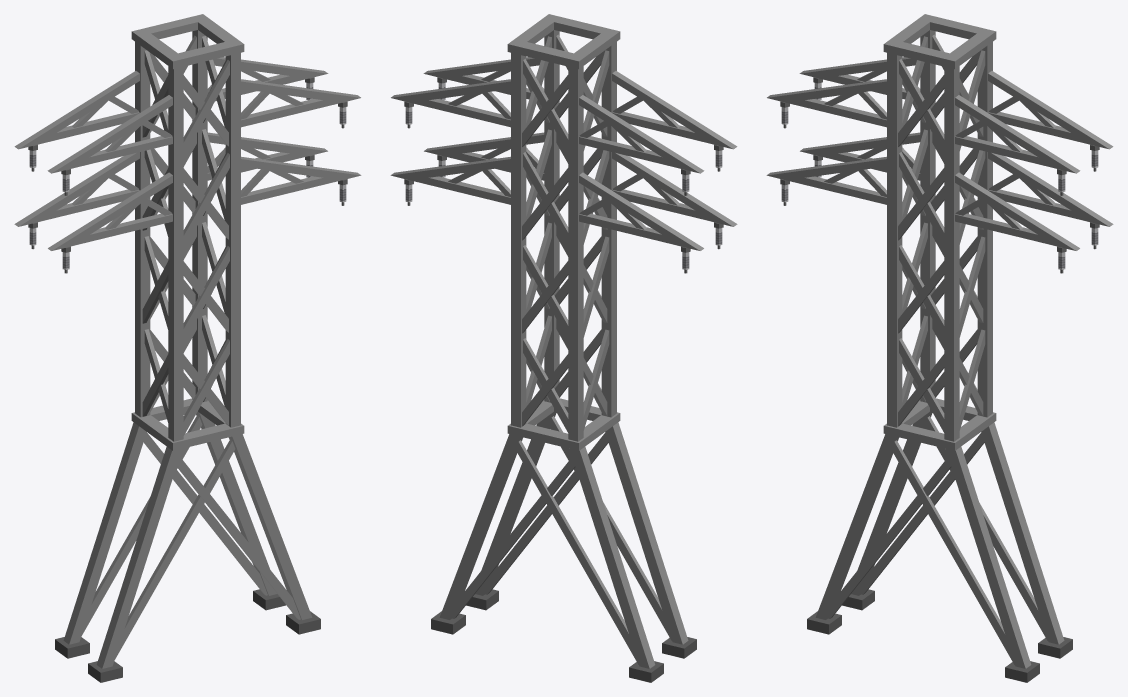
Rendered from west_zs15.FBX.
3 views of the same model, side by side, from view 1: azimuth 30°, elevation 25°; view 2: azimuth 150°, elevation 25°; view 3: azimuth 330°, elevation 25° (orthographic).
Visible parts, largest first — view 1: west_zs15; view 2: west_zs15; view 3: west_zs15.
Part boxes in pixels (x1,y1,x2,y2): west_zs15: [14, 14, 361, 682]; west_zs15: [390, 14, 737, 682]; west_zs15: [766, 14, 1113, 682].
Size of the model in its own units: 2355 by 4372 by 604.
